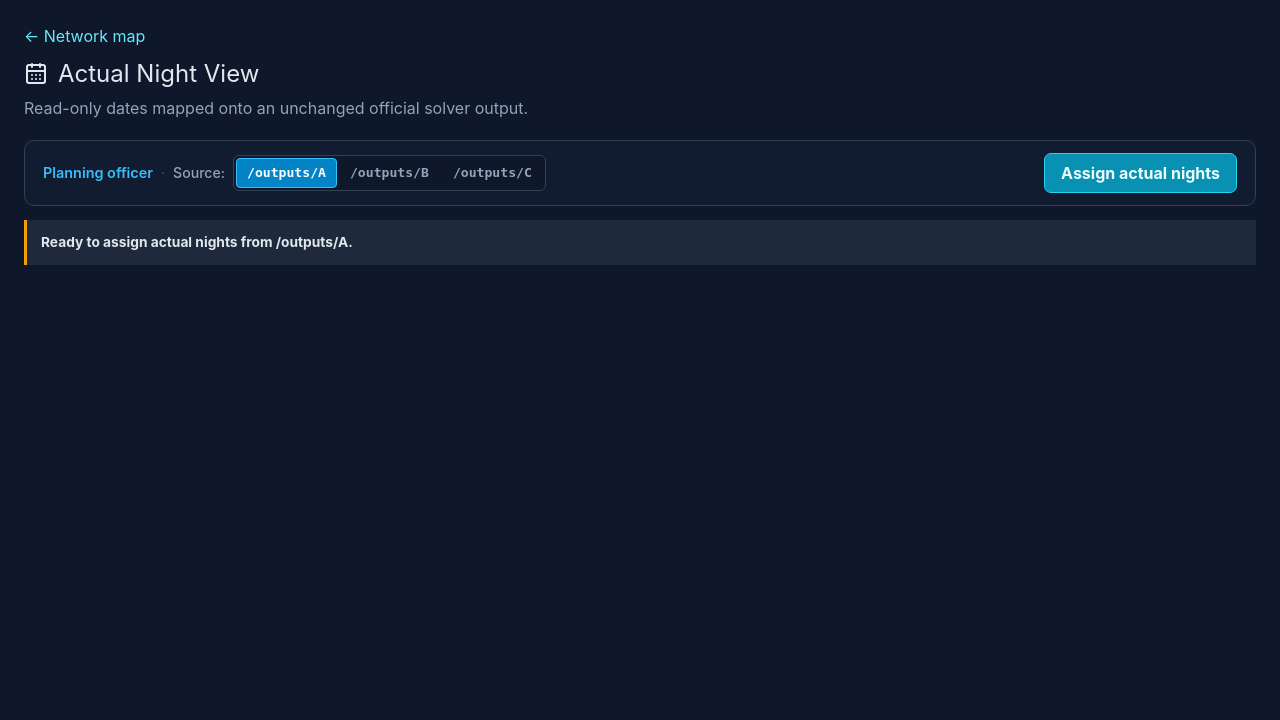
Test case: CalendarPage › restores previous successful calendar when a retry fails
Click the button "Assign actual nights": click(1141, 173) [1044,153,1237,193]
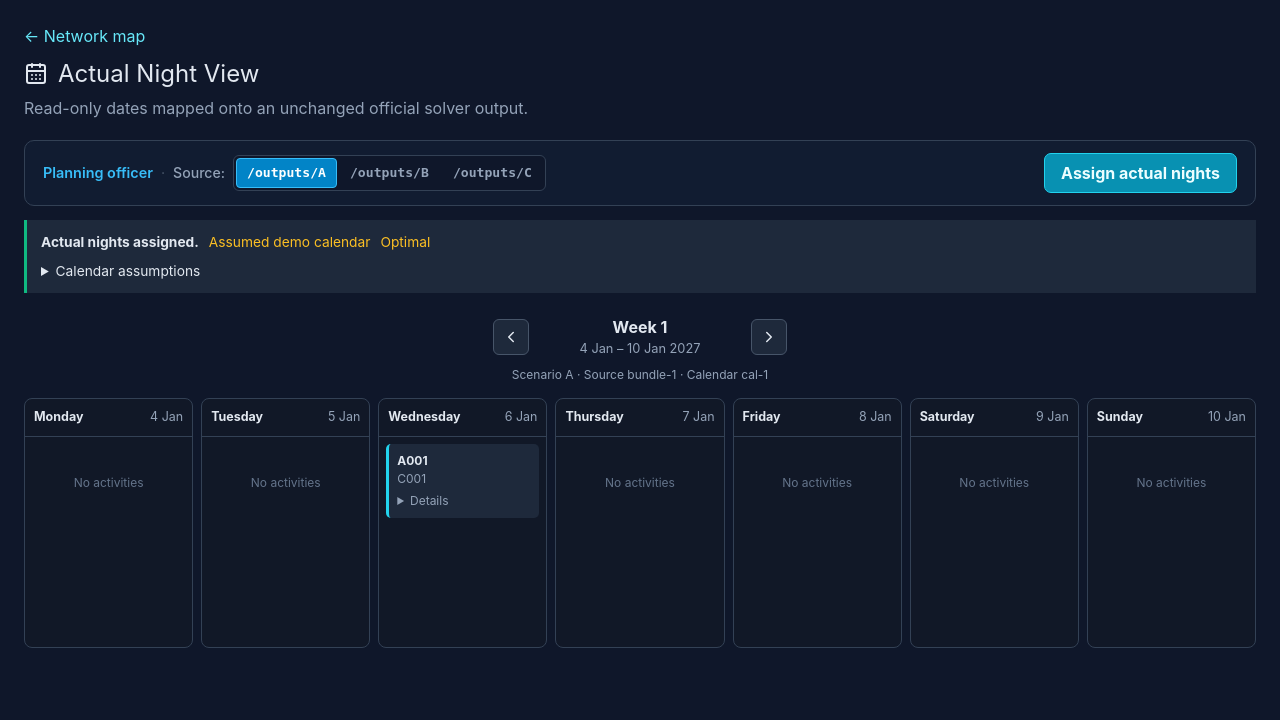
Now the text "A001" is shown, box [397,452,428,470]
Click the button "Assign actual nights": click(1141, 173) [1044,153,1237,193]
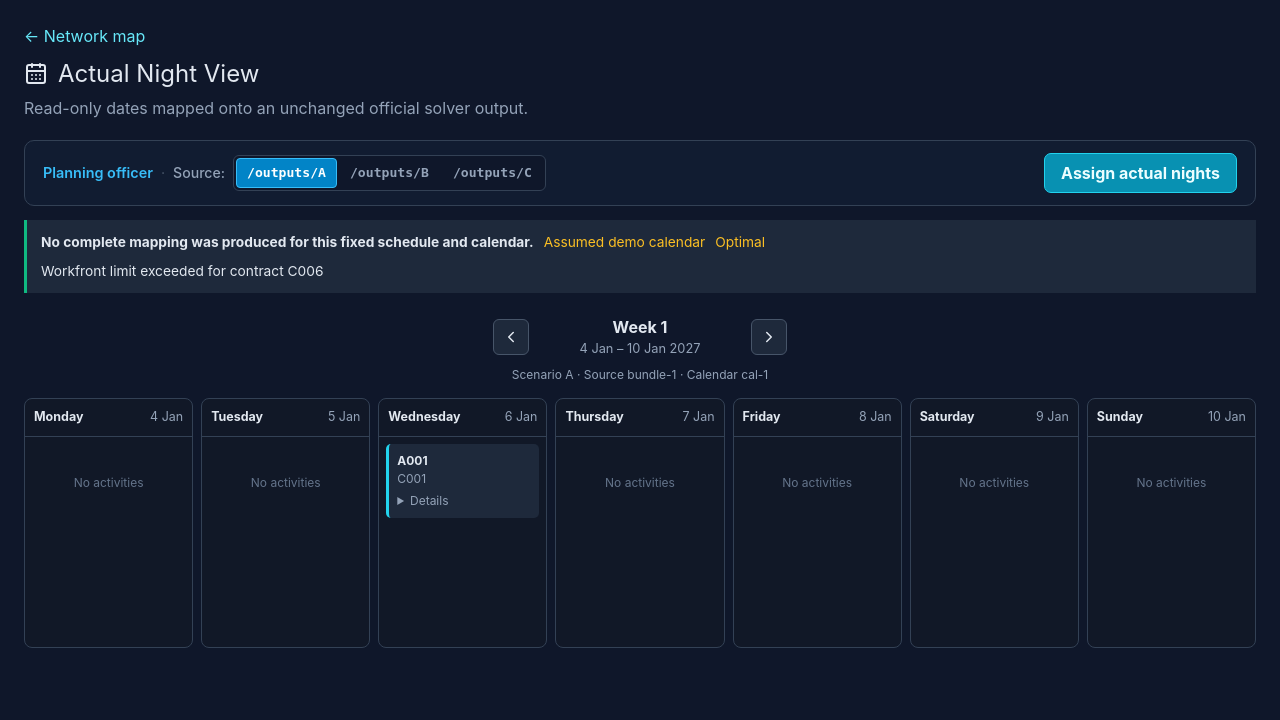
Now the text "A001" is shown, box [397,452,428,470]
Now the text "C001" is shown, box [397,471,426,486]
Now the list item "Workfront limit exceeded for contract C006" is shown, box [41,263,324,279]
